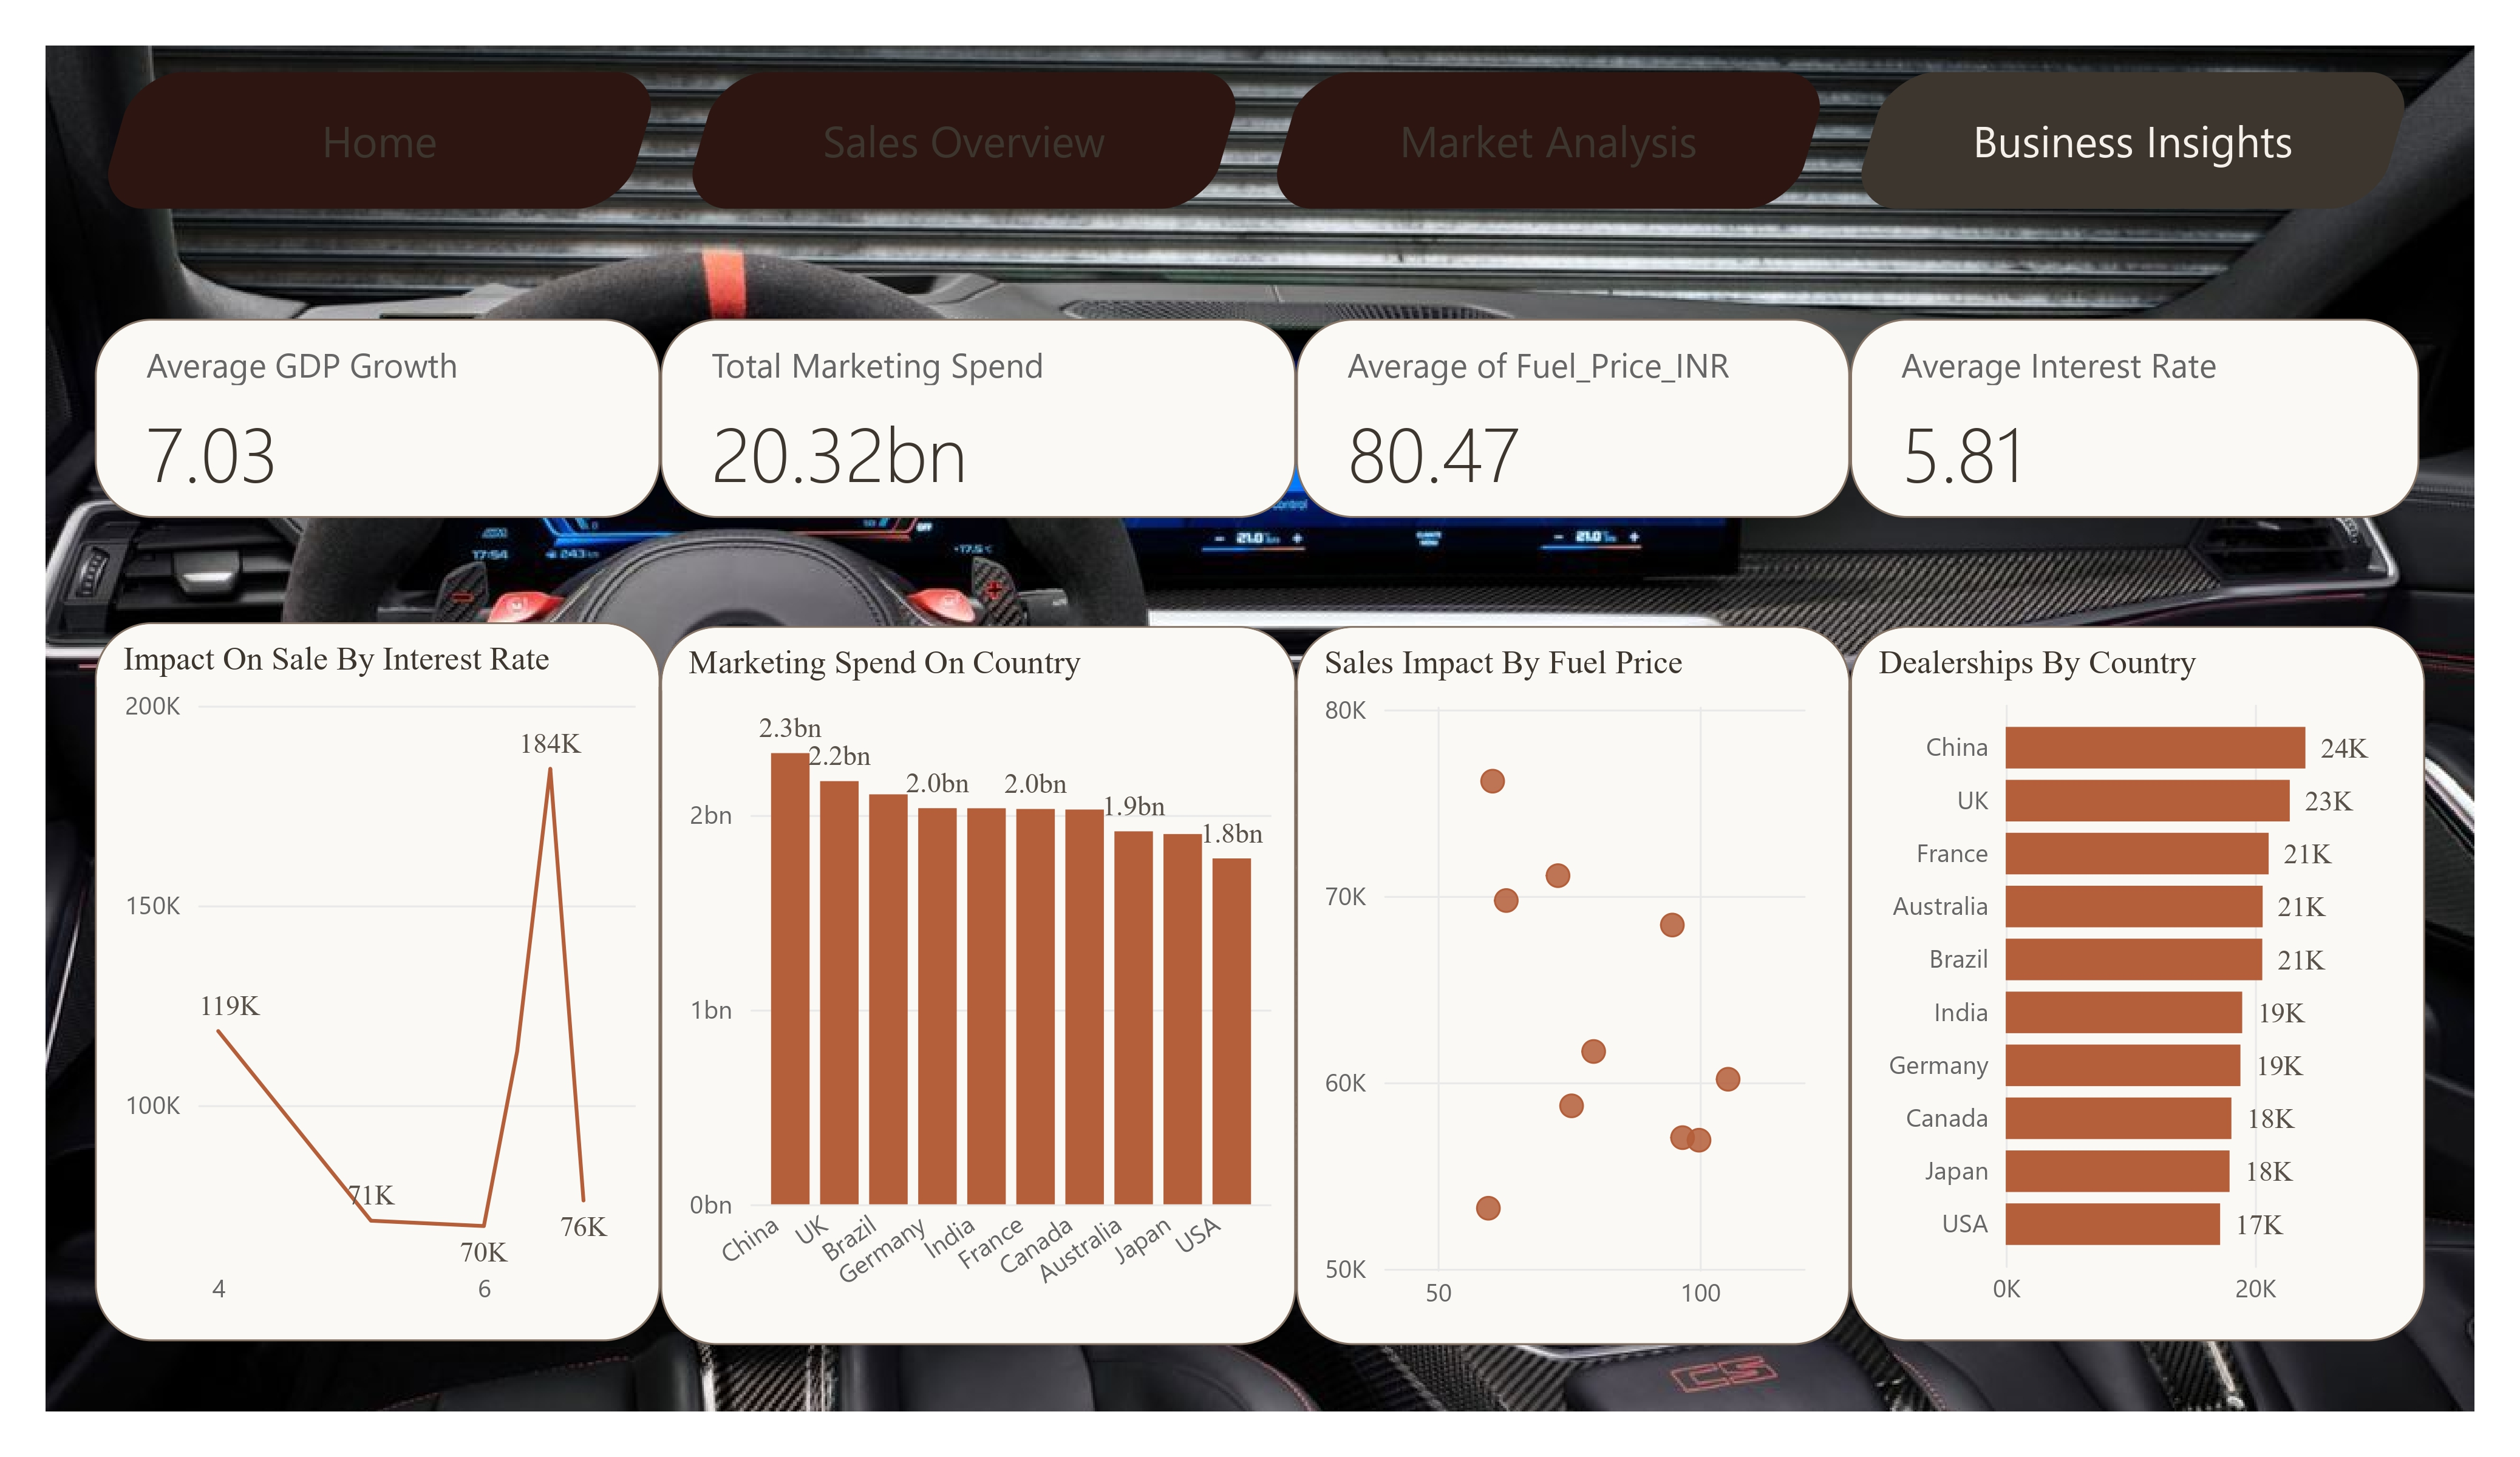

The page's visual inventory and layout, read from the dashboard file:
{"tool":"powerbi","page":{"name":"Business Insights ","canvas":[1280,720],"ordinal":3},"visuals":[{"type":"lineChart","title":"Impact On Sale By Interest Rate","fields":{"Category":["BMW_Data_csv.Interest_Rate_Percent"],"Y":["Sum(BMW_Data_csv.Model Units Sold)"]},"box":[26.2,303.8,297.5,378.8],"z":0},{"type":"clusteredColumnChart","title":"Marketing Spend On Country","fields":{"Category":["BMW_Data_csv.Country"],"Y":["Sum(BMW_Data_csv.Marketing_Spend_INR)"]},"box":[323.8,306.2,335,378.8],"z":1000},{"type":"scatterChart","title":"Sales Impact By Fuel Price","fields":{"X":["BMW_Data_csv.Fuel_Price_INR"],"Y":["Sum(BMW_Data_csv.Model Units Sold)"]},"box":[658.8,306.2,292.5,378.8],"z":2000},{"type":"pageNavigator","box":[26.5,14.5,1224.5,71.2],"z":3000},{"type":"barChart","title":"Dealerships By Country","fields":{"Category":["BMW_Data_csv.Country"],"Y":["Sum(BMW_Data_csv.Active Dealership Count)"]},"box":[951.2,306.2,302.5,376.2],"z":3001},{"type":"cardVisual","fields":{"Data":["Avg(BMW_Data_csv.Gdp_Growth_Percent)"]},"box":[26.2,143.8,297.5,105],"z":3002},{"type":"cardVisual","fields":{"Data":["Sum(BMW_Data_csv.Marketing_Spend_INR)"]},"box":[323.8,143.8,335,105],"z":3003},{"type":"cardVisual","fields":{"Data":["Avg(BMW_Data_csv.Fuel_Price_INR)"]},"box":[658.8,143.8,292,105],"z":3004},{"type":"cardVisual","fields":{"Data":["Avg(BMW_Data_csv.Interest_Rate_Percent)"]},"box":[951.2,143.8,300,105],"z":3005}]}

Visuals, with their boxes on the page's 1280x720 design canvas (x1, y1, x2, y2). These are canvas units, not pixel positions in the 2520x1457 screenshot, which may show the page scaled, cropped or inside an application window:
"Impact On Sale By Interest Rate" lineChart: bbox(26, 304, 324, 683)
"Marketing Spend On Country" clusteredColumnChart: bbox(324, 306, 659, 685)
"Sales Impact By Fuel Price" scatterChart: bbox(659, 306, 951, 685)
pageNavigator: bbox(26, 14, 1251, 86)
"Dealerships By Country" barChart: bbox(951, 306, 1254, 682)
cardVisual - Avg(BMW_Data_csv.Gdp_Growth_Percent): bbox(26, 144, 324, 249)
cardVisual - Sum(BMW_Data_csv.Marketing_Spend_INR): bbox(324, 144, 659, 249)
cardVisual - Avg(BMW_Data_csv.Fuel_Price_INR): bbox(659, 144, 951, 249)
cardVisual - Avg(BMW_Data_csv.Interest_Rate_Percent): bbox(951, 144, 1251, 249)
